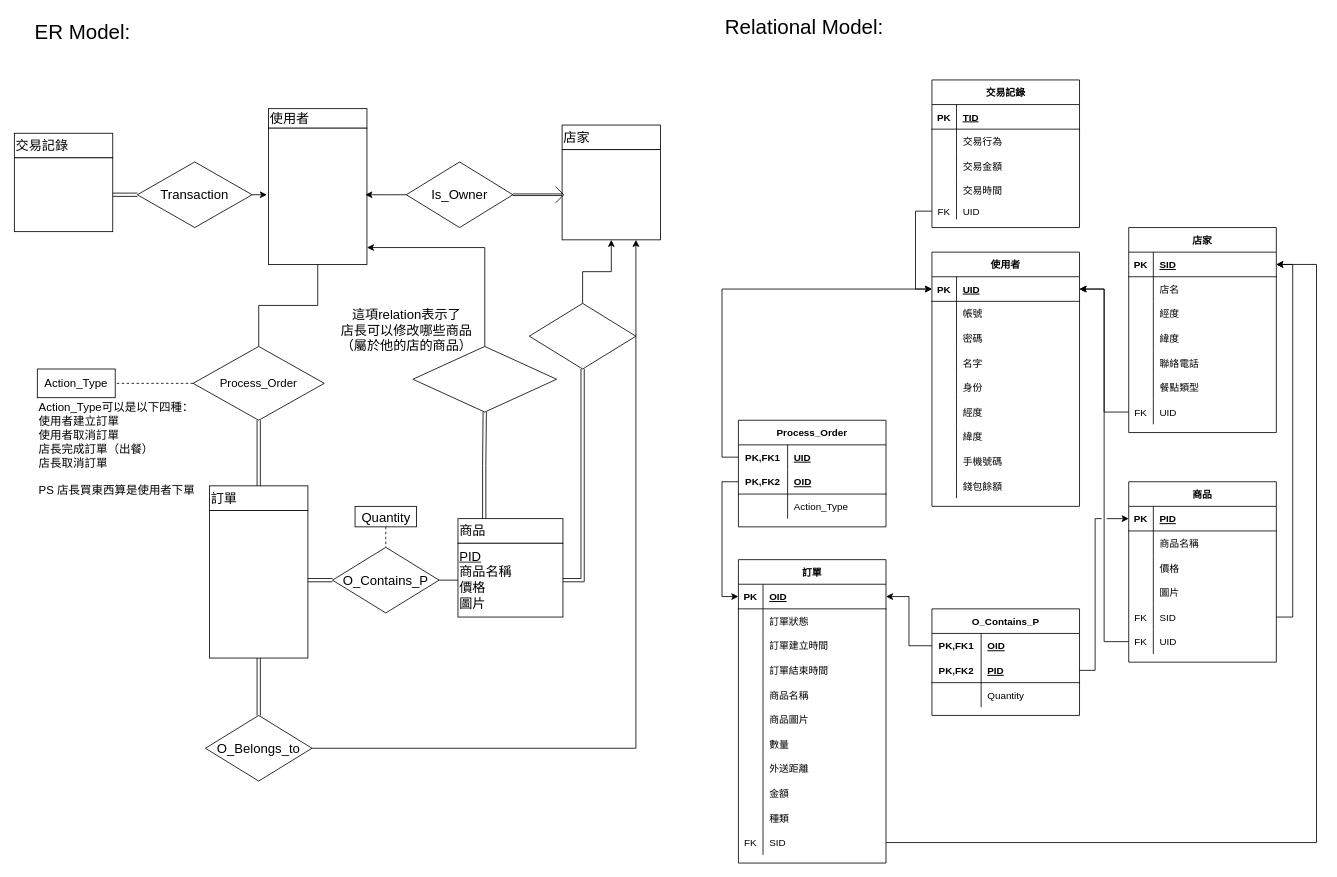
This 1337x877 diagram has some shape labels left out. Each missing label, with the centre of its shape:
"Can_Modify_P" goes at point (484, 379).
"OID 訂單狀態 訂單建立時間 訂單結束時間 商品名稱/圖片 數量 外送距離 金額 種類" goes at point (258, 584).
"P_Belongs_to" goes at point (582, 336).
"SID 店名 位置（經緯度） 聯絡電話 餐點類型" goes at point (611, 194).
"TID 交易行為 交易金額 交易時間" goes at point (63, 194).
"UID 帳號 密碼 名字 身份 位置（經緯度） 手機號碼 錢包餘額" goes at point (317, 195).
